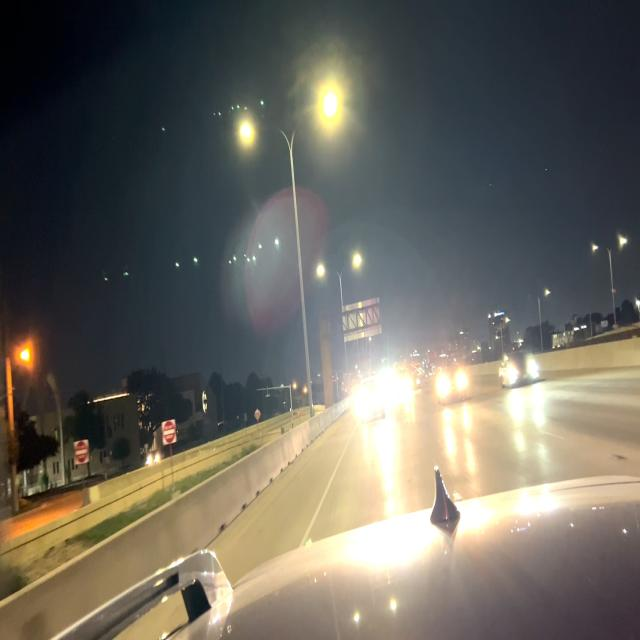back-of-sign: (342, 296, 382, 344)
